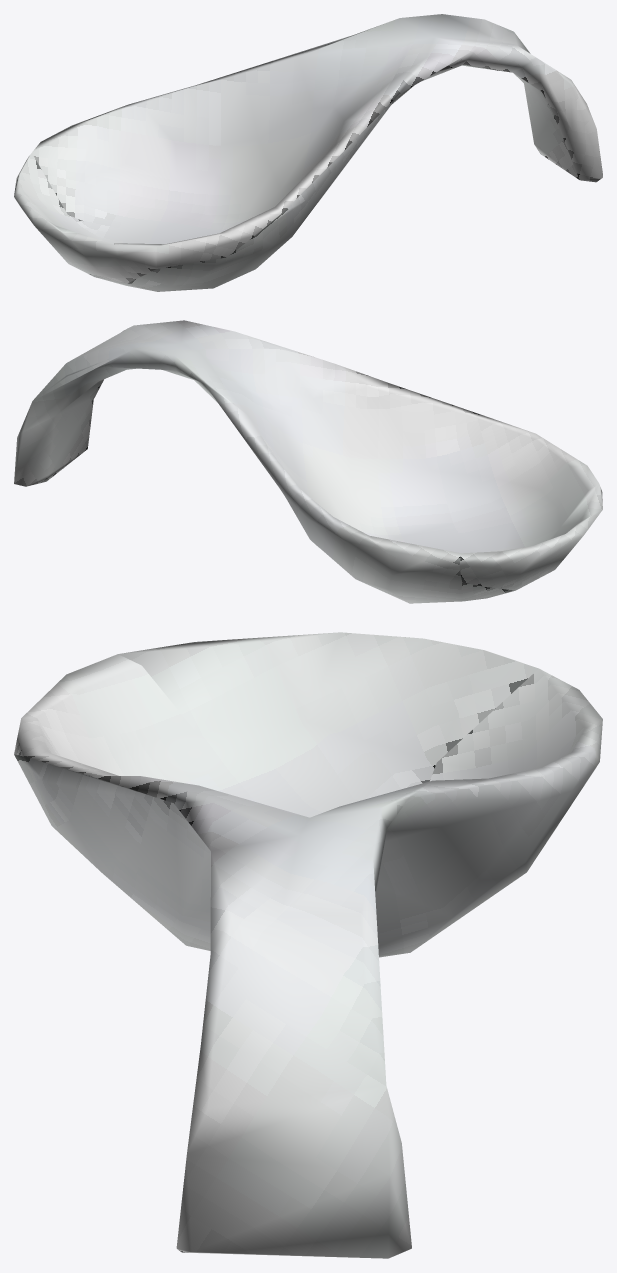
Rendered from Threshold_Porcelain_Spoon_Rest_White-low.glb.
The picture shows the model from 3 angles, top to bottom: view 1: azimuth 30°, elevation 25°; view 2: azimuth 150°, elevation 25°; view 3: azimuth 270°, elevation 25°; orthographic projection. The views are drawn at different scales.
Parts seen in each view (by area): view 1: Threshold_Porcelain_Spoon_Rest_White; view 2: Threshold_Porcelain_Spoon_Rest_White; view 3: Threshold_Porcelain_Spoon_Rest_White.
Boxes of the visible parts, <box> form: Threshold_Porcelain_Spoon_Rest_White: <box>14,14,602,291</box>; Threshold_Porcelain_Spoon_Rest_White: <box>14,320,602,603</box>; Threshold_Porcelain_Spoon_Rest_White: <box>14,632,602,1258</box>.
Size of the model in its own units: 0.2354 by 0.0711 by 0.1166.
1 material, 1 textured.
